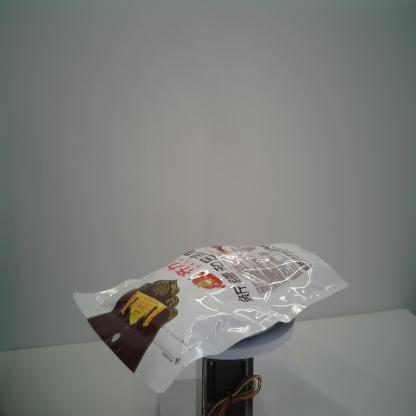Dried Food: (72, 241, 350, 393)
